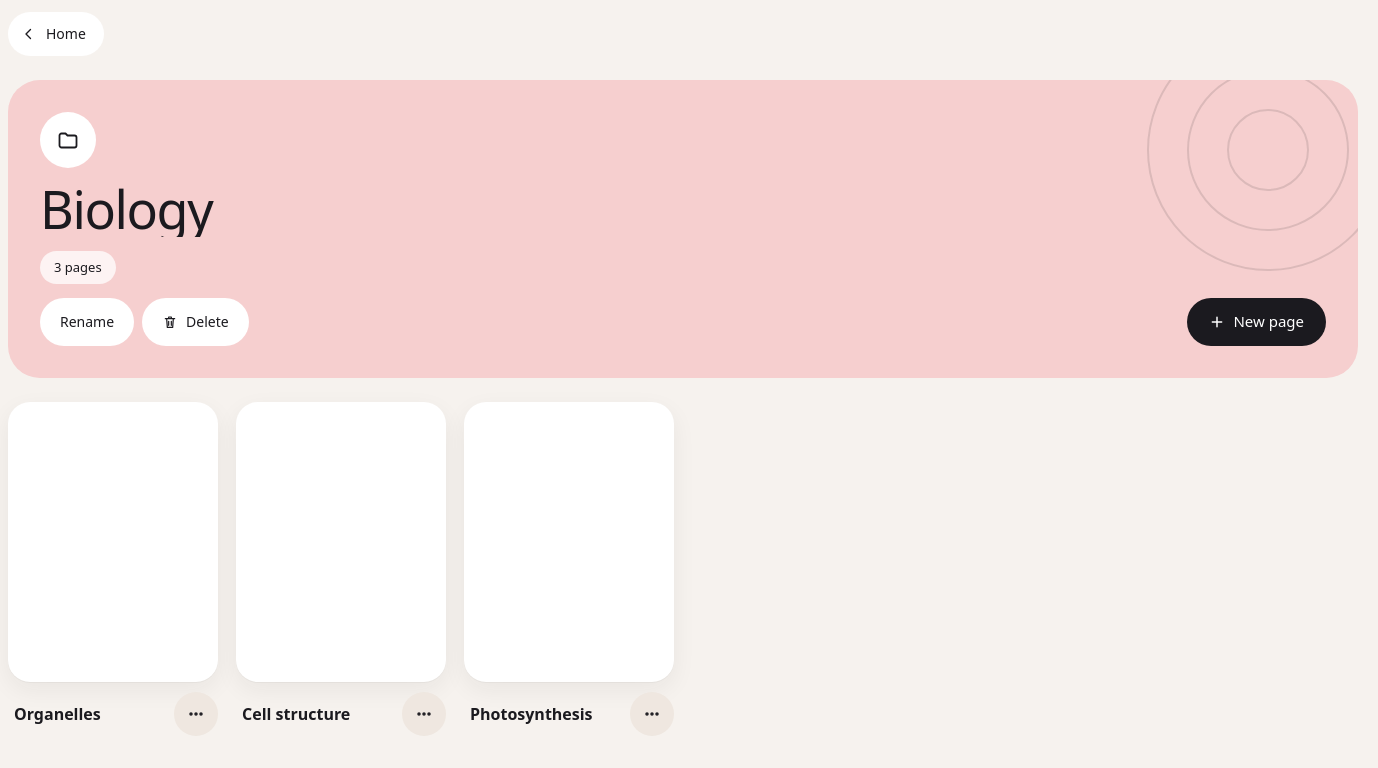
Test case: FolderView › each page row has the same actions menu, separate from the link that opens the page
Click the button named "Actions for Organelles" at point(196, 714), box [174, 692, 218, 736]
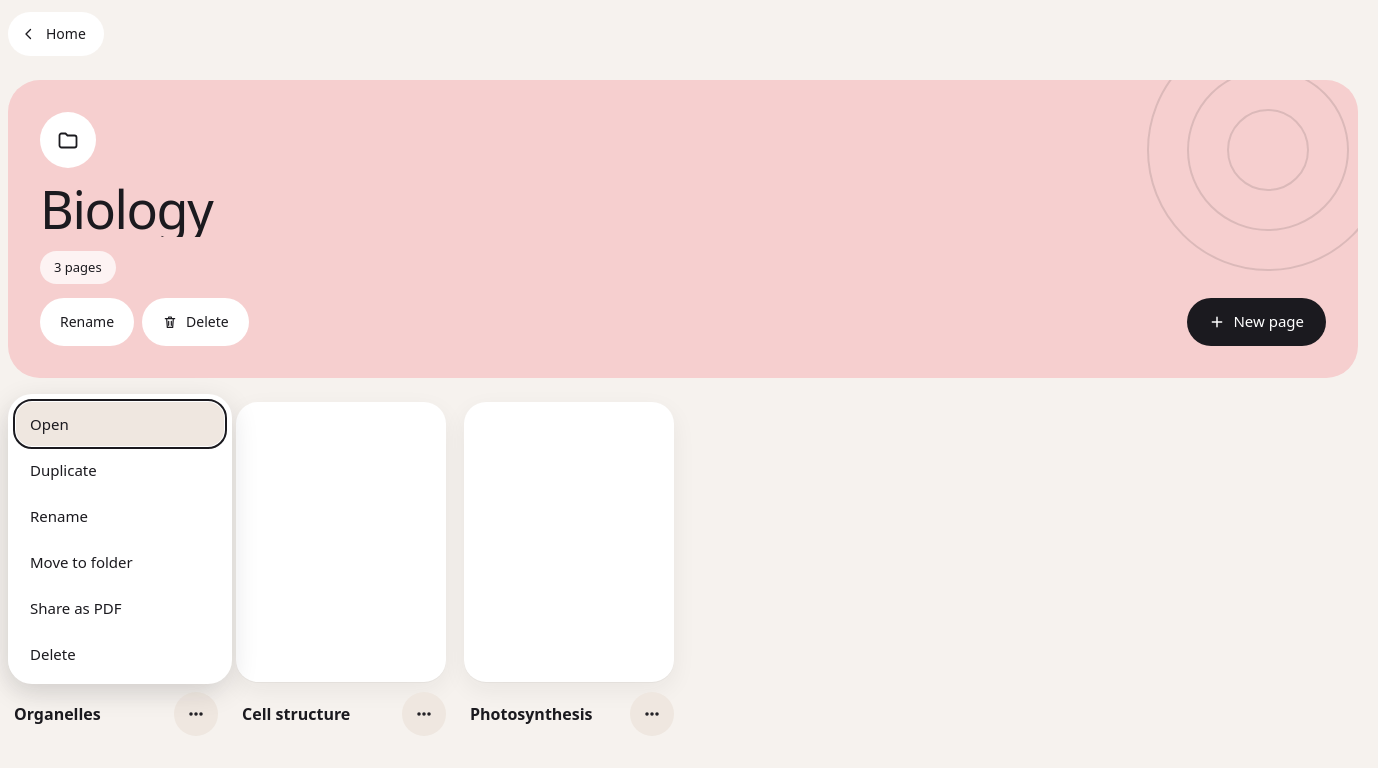
Check: the menu items read "Open", "Duplicate", "Rename", "Move to folder", "Share as PDF", "Delete", in this order, box [16, 402, 224, 446]; [16, 448, 224, 492]; [16, 494, 224, 538]; [16, 540, 224, 584]; [16, 586, 224, 630]; [16, 632, 224, 676]
